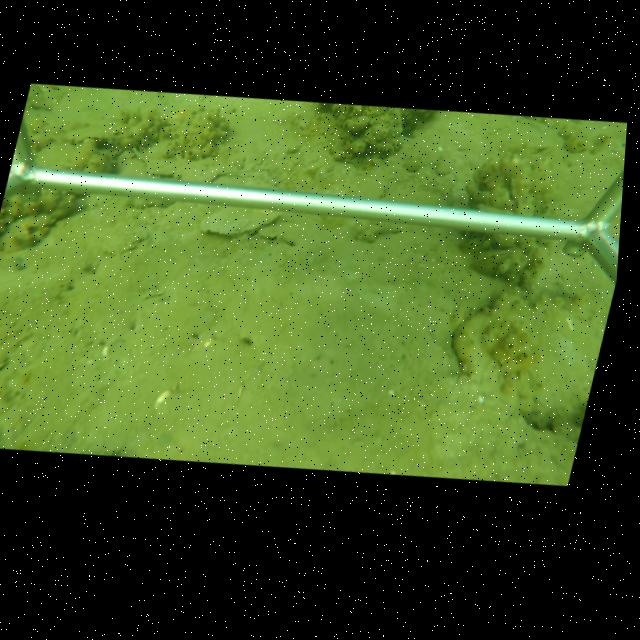Oyster-Closed: (198, 206, 282, 239), (256, 221, 322, 246), (471, 250, 515, 275), (506, 165, 522, 211)
